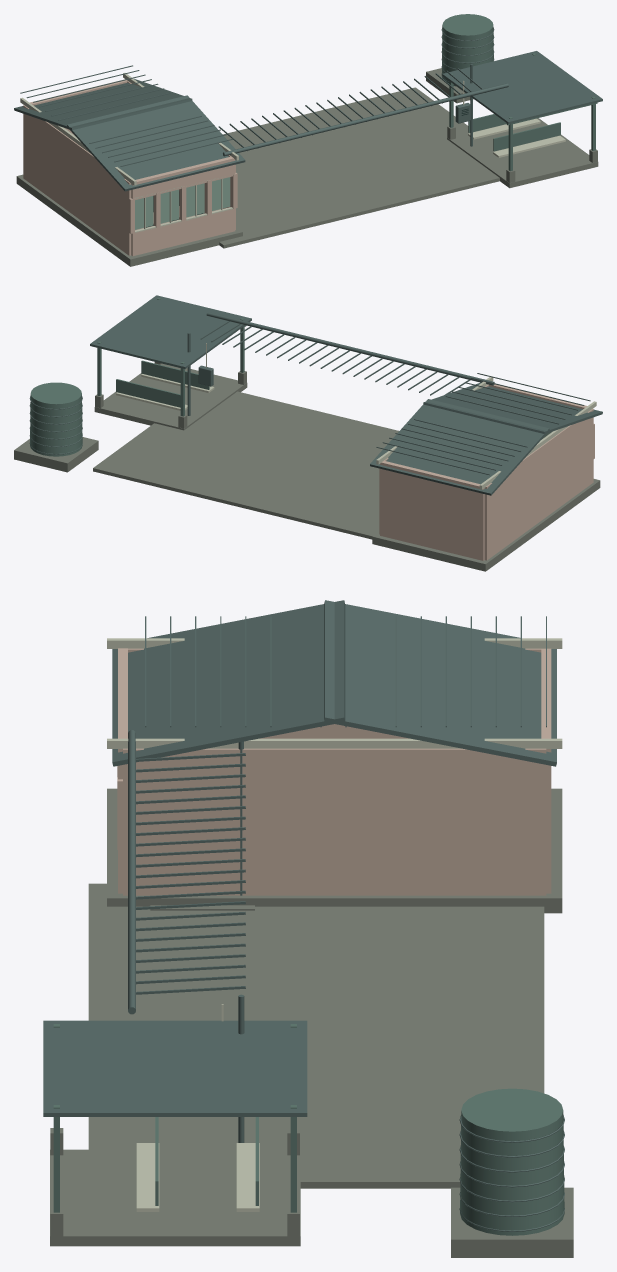
The model's file is clinic-3.glb.
3 views of the same model, one above another, from view 1: azimuth 30°, elevation 25°; view 2: azimuth 150°, elevation 25°; view 3: azimuth 270°, elevation 25° (orthographic). The views are drawn at different scales.
Visible parts, largest first — view 1: Clinic_3; view 2: Clinic_3; view 3: Clinic_3.
Part boxes in pixels (box(x1,y1,x2,y2)): Clinic_3: box(14, 14, 602, 266); Clinic_3: box(14, 295, 602, 571); Clinic_3: box(43, 600, 573, 1257).
Bounding box in the file's own units: 23.8 × 4.84 × 11.65.
